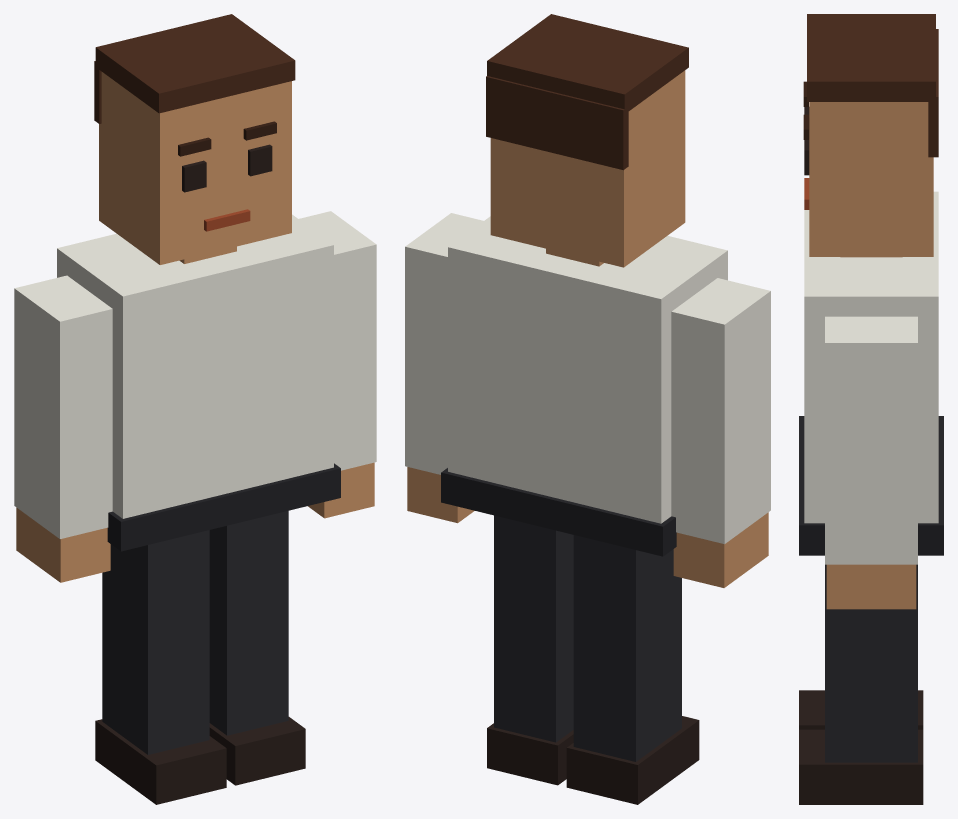
File: clerk_computers.glb
The picture shows the model from 3 angles, left to right: view 1: azimuth 30°, elevation 25°; view 2: azimuth 150°, elevation 25°; view 3: azimuth 270°, elevation 25°; orthographic projection.
Parts seen in each view (by area): view 1: Box9, Box12, Box7, Box5, Box1, Box18, Box3, Box10, Box6, Box2, Box8, Box4 (+2 smaller); view 2: Box9, Box7, Box12, Box5, Box1, Box18, Box3, Box19, Box10, Box6, Box8, Box2 (+1 smaller); view 3: Box3, Box12, Box9, Box1, Box18, Box2, Box4, Box10, Box6, Box19.
Boxes of the visible parts, left/top/right/bottom form: Box9: left=57, top=214, right=333, bottom=518; Box12: left=99, top=72, right=291, bottom=264; Box7: left=14, top=275, right=112, bottom=538; Box5: left=102, top=530, right=209, bottom=754; Box1: left=209, top=510, right=288, bottom=735; Box18: left=95, top=14, right=295, bottom=113; Box3: left=299, top=211, right=376, bottom=470; Box10: left=107, top=463, right=340, bottom=551; Box6: left=95, top=719, right=226, bottom=804; Box2: left=209, top=717, right=305, bottom=785; Box8: left=16, top=507, right=110, bottom=582; Box4: left=308, top=462, right=374, bottom=518; Box9: left=448, top=216, right=727, bottom=523; Box7: left=671, top=278, right=770, bottom=544; Box12: left=490, top=70, right=685, bottom=267; Box5: left=573, top=535, right=681, bottom=761; Box1: left=494, top=515, right=573, bottom=742; Box18: left=487, top=14, right=688, bottom=113; Box3: left=405, top=213, right=483, bottom=474; Box19: left=486, top=76, right=628, bottom=170; Box10: left=441, top=468, right=676, bottom=556; Box6: left=566, top=716, right=699, bottom=804; Box8: left=673, top=512, right=768, bottom=587; Box2: left=487, top=723, right=573, bottom=785; Box3: left=825, top=316, right=917, bottom=564; Box12: left=809, top=102, right=933, bottom=256; Box9: left=804, top=191, right=938, bottom=523; Box1: left=825, top=564, right=917, bottom=762; Box18: left=807, top=14, right=935, bottom=101; Box2: left=799, top=729, right=923, bottom=804; Box4: left=826, top=564, right=916, bottom=609; Box10: left=799, top=416, right=943, bottom=555; Box6: left=799, top=690, right=923, bottom=729; Box19: left=928, top=29, right=938, bottom=157.
Bounding box in the file's own units: 0.8165 × 1.74 × 0.3175.
